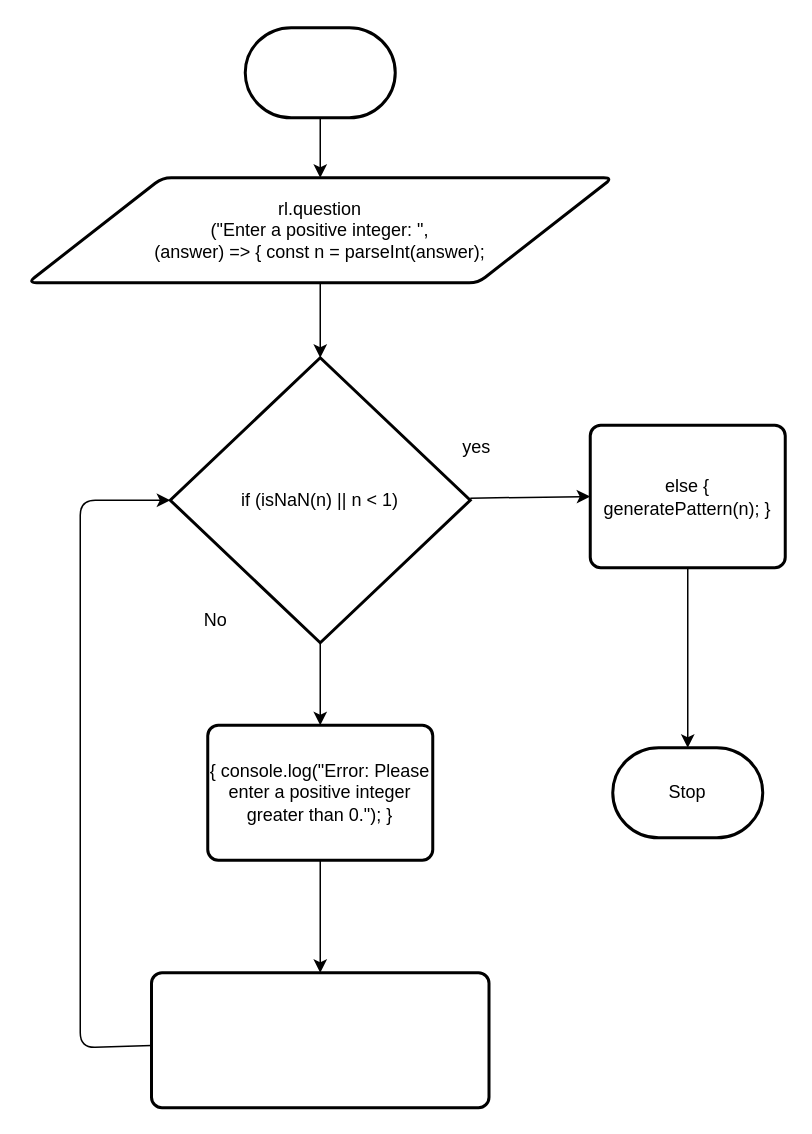
This 812x1134 diagram has some shape labels left out. The centre of each missing label's shape, as x and y in pixels:
"for (let i = 1; i <= n; i++)" goes at [319,1039].
"start" goes at [319,72].
